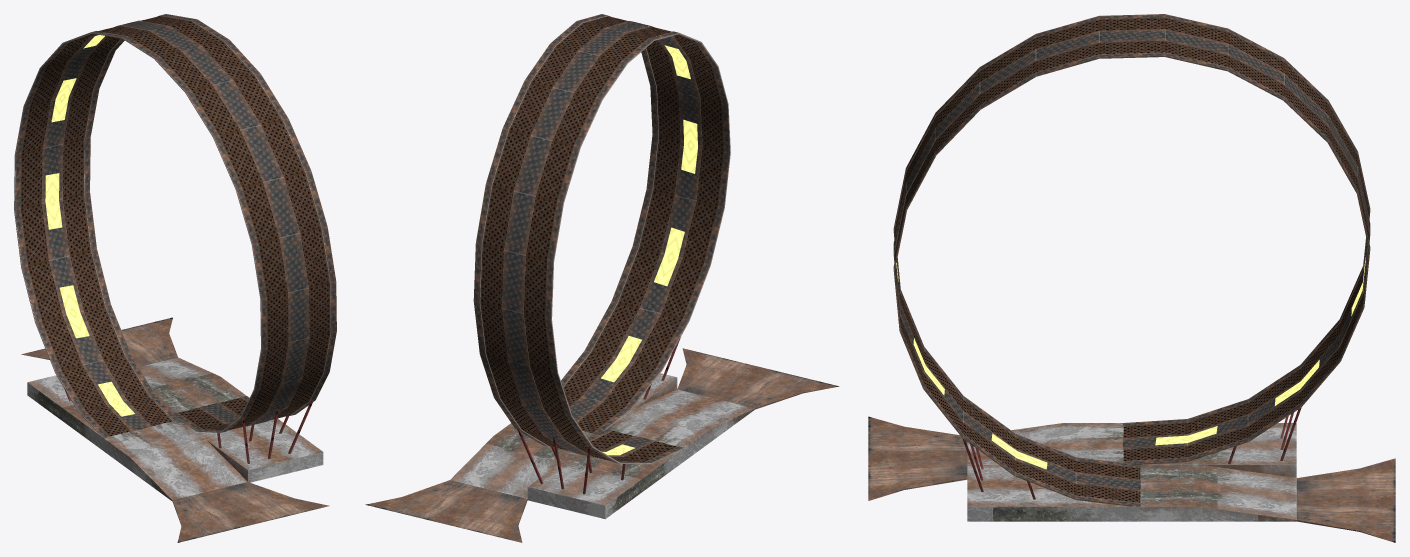
File: round_ramp.glb
The picture shows the model from 3 angles, left to right: view 1: azimuth 30°, elevation 25°; view 2: azimuth 150°, elevation 25°; view 3: azimuth 270°, elevation 25°; orthographic projection. The views are drawn at different scales.
Parts seen in each view (by area): view 1: Ramps03; view 2: Ramps03; view 3: Ramps03.
Boxes of the visible parts, left/top/right/bottom form: Ramps03: left=14, top=14, right=336, bottom=542; Ramps03: left=365, top=14, right=839, bottom=542; Ramps03: left=868, top=14, right=1395, bottom=542.
Size of the model in its own units: 0.3923 by 0.6438 by 0.6927.
3 materials, 3 textured.
